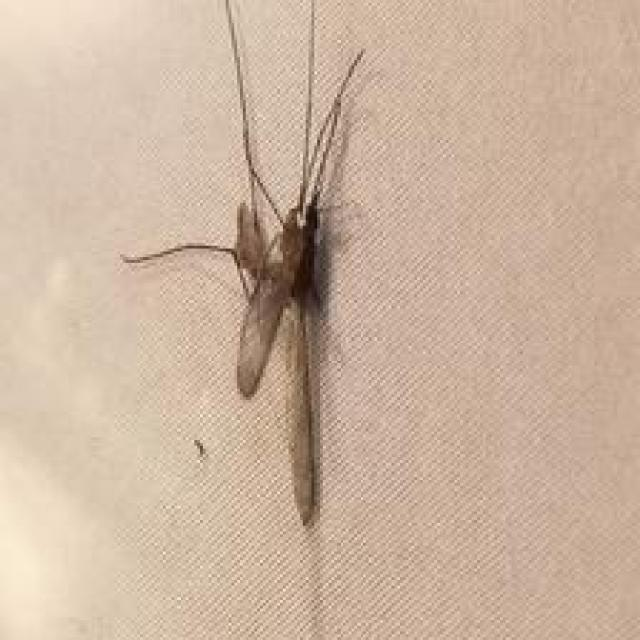Culex: (119, 0, 384, 529)
